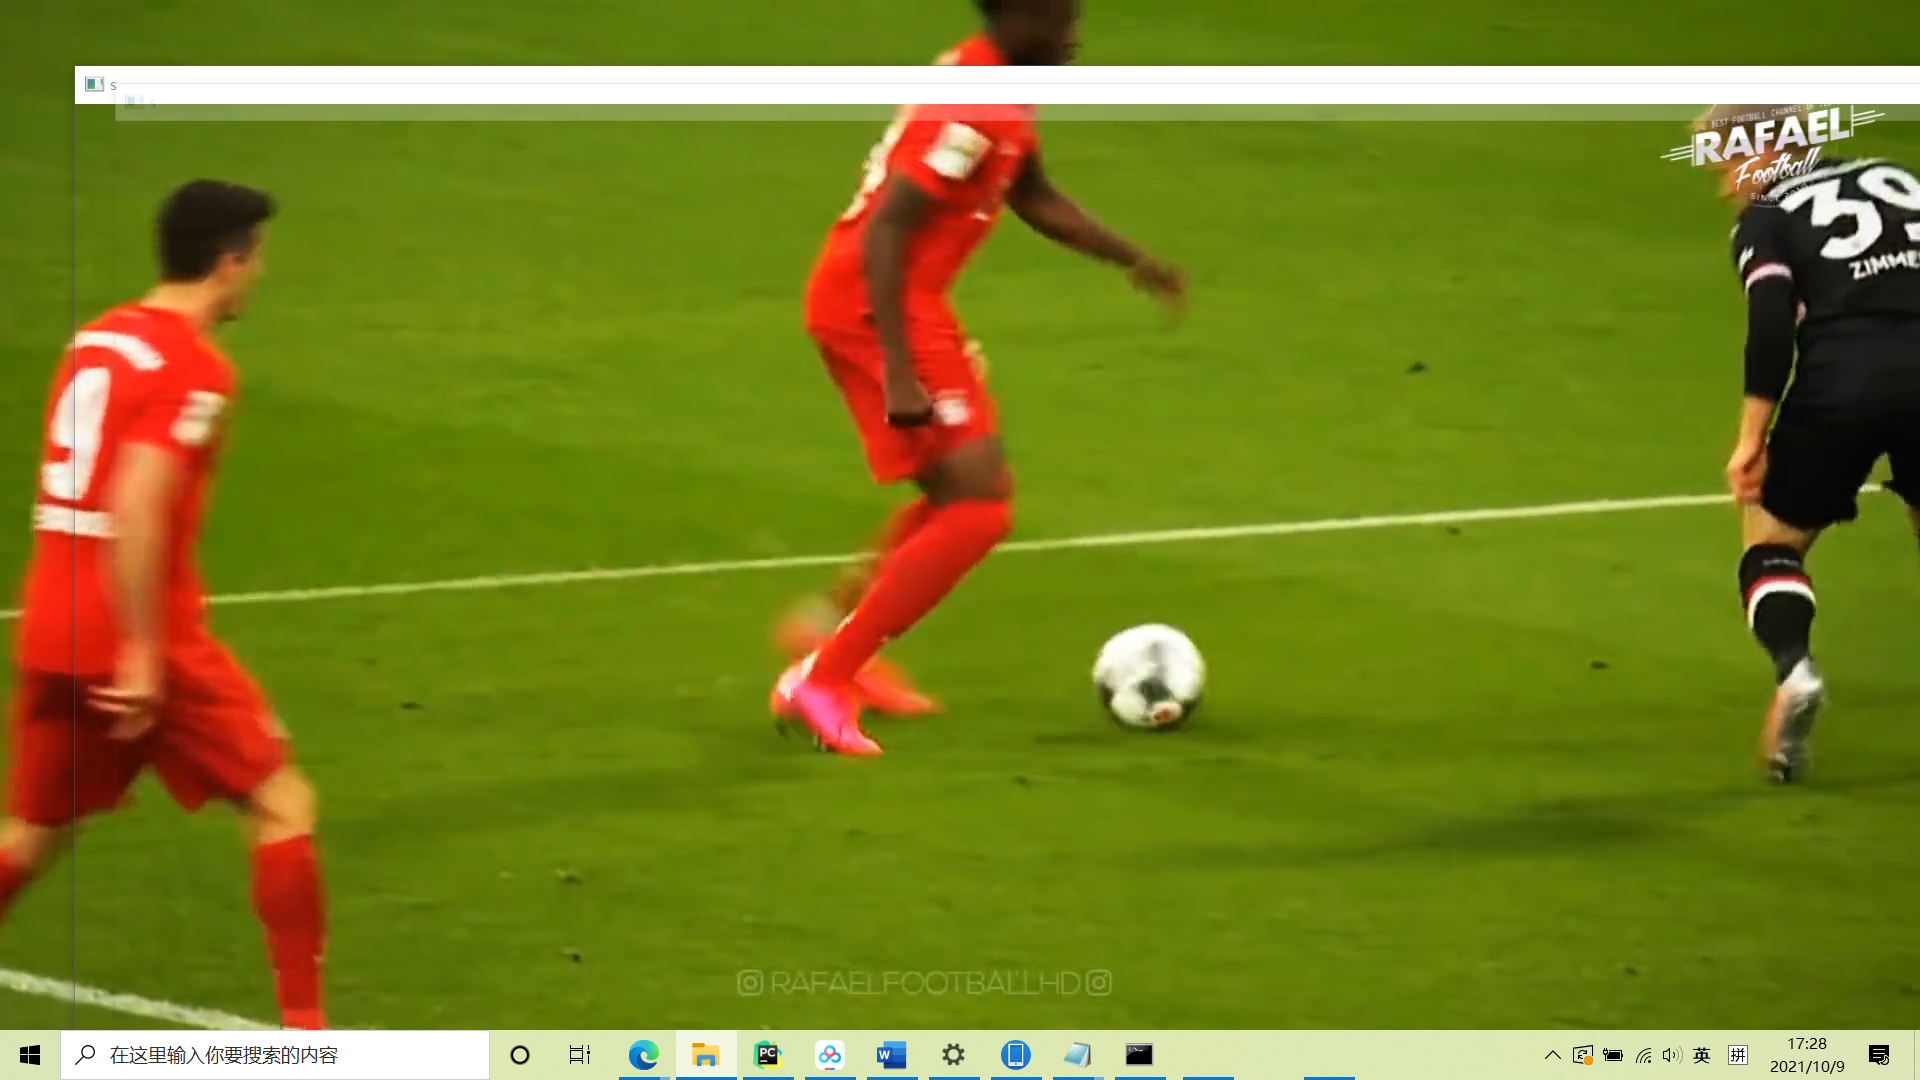ft: (1081, 615, 1218, 744)
